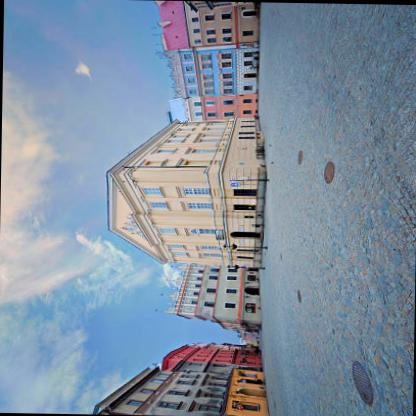manholes: (330, 356, 394, 410), (310, 155, 346, 188), (289, 140, 311, 168), (290, 286, 312, 308), (274, 246, 288, 263)
